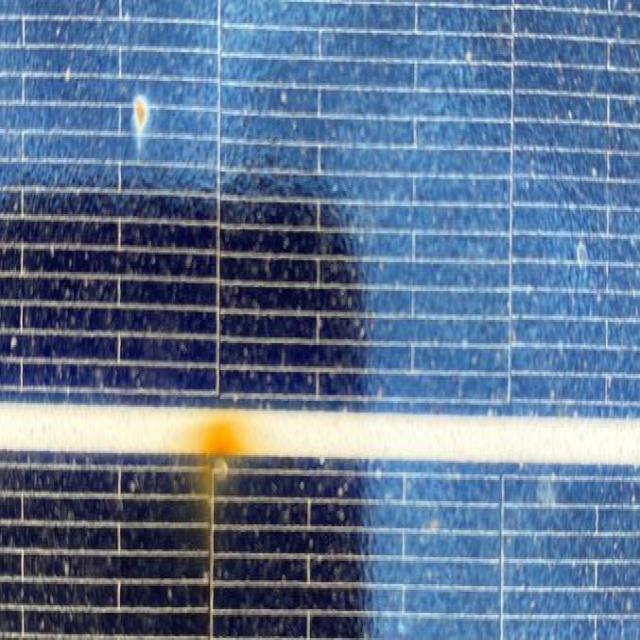Electrical-damage: (184, 410, 266, 534), (121, 68, 170, 179)
